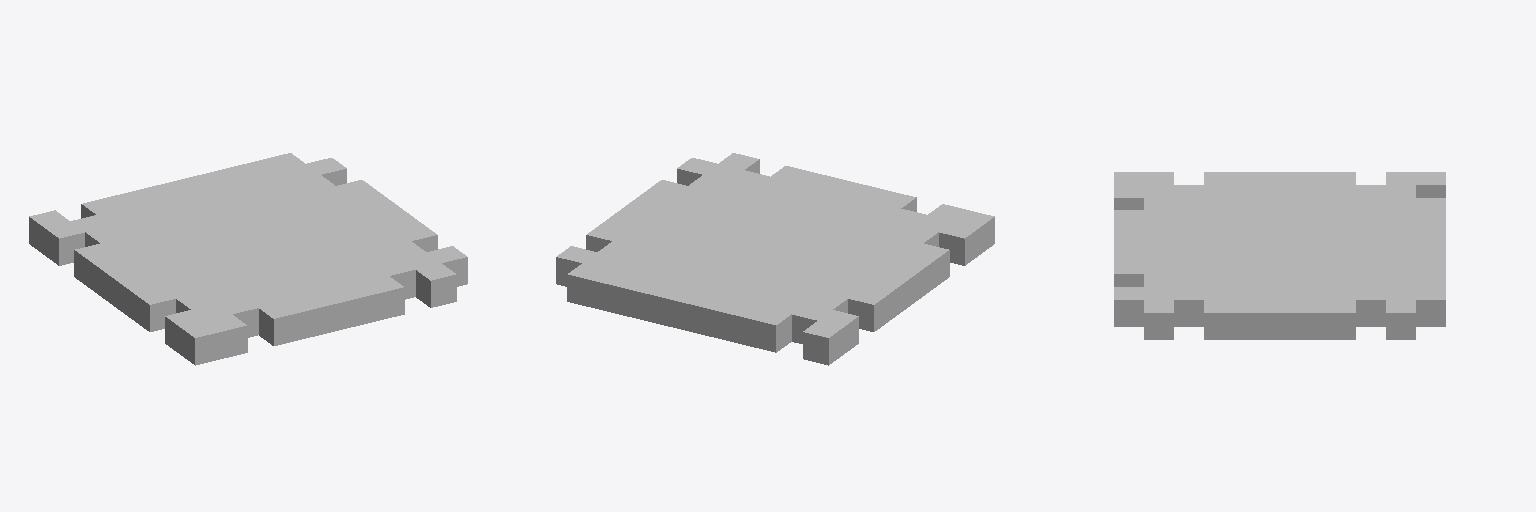
The model's file is lettuce.obj.
The picture shows the model from 3 angles: view 1: azimuth 30°, elevation 25°; view 2: azimuth 150°, elevation 25°; view 3: azimuth 270°, elevation 25°; orthographic projection.
Visible parts, largest first — view 1: object 1; view 2: object 1; view 3: object 1.
Boxes of the visible parts, <box> form: object 1: <box>29,153,467,365</box>; object 1: <box>556,153,994,365</box>; object 1: <box>1114,172,1445,339</box>.
Bounding box in the file's own units: 1.1 × 0.1 × 1.1.